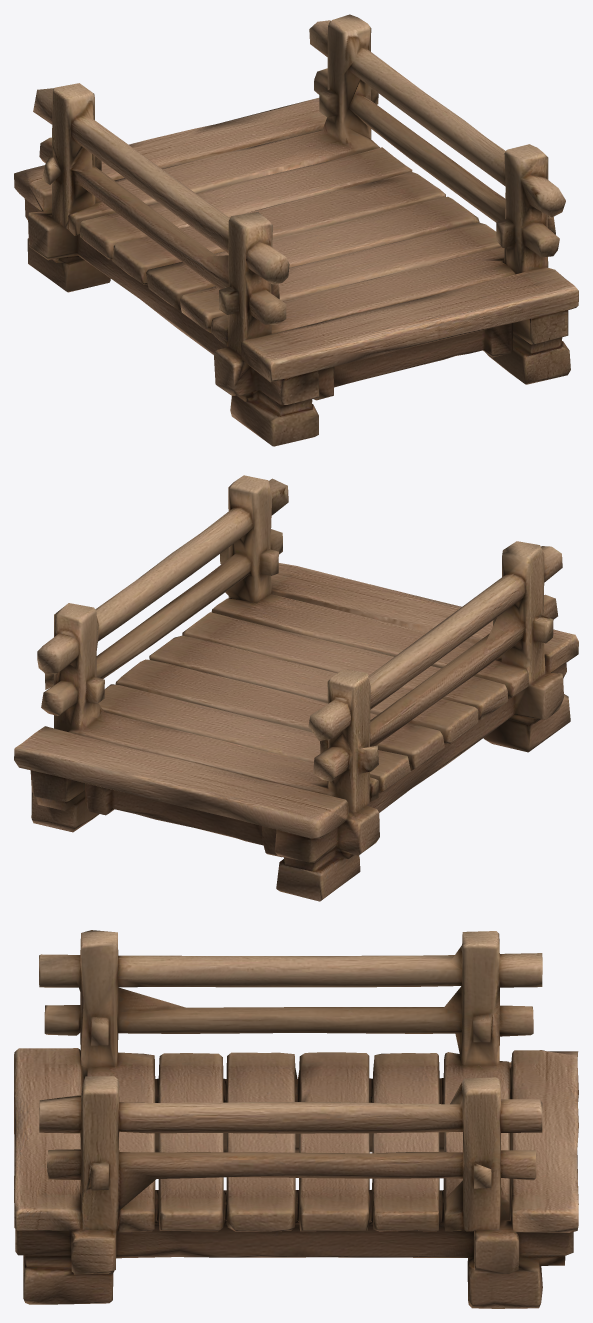
File: bridge_wooden.glb
3 views of the same model, one above another, from view 1: azimuth 30°, elevation 25°; view 2: azimuth 150°, elevation 25°; view 3: azimuth 270°, elevation 25° (orthographic). The views are drawn at different scales.
Visible parts, largest first — view 1: tripo_node_9e39605a-0f45-46c7-a362-4596c5b02b4a; view 2: tripo_node_9e39605a-0f45-46c7-a362-4596c5b02b4a; view 3: tripo_node_9e39605a-0f45-46c7-a362-4596c5b02b4a.
Part boxes in pixels (left/top/right/bottom): tripo_node_9e39605a-0f45-46c7-a362-4596c5b02b4a: left=14, top=14, right=578, bottom=446; tripo_node_9e39605a-0f45-46c7-a362-4596c5b02b4a: left=14, top=475, right=578, bottom=901; tripo_node_9e39605a-0f45-46c7-a362-4596c5b02b4a: left=14, top=930, right=578, bottom=1308.
Bounding box in the file's own units: 0.7383 × 0.424 × 1.
1 material, 1 textured.
